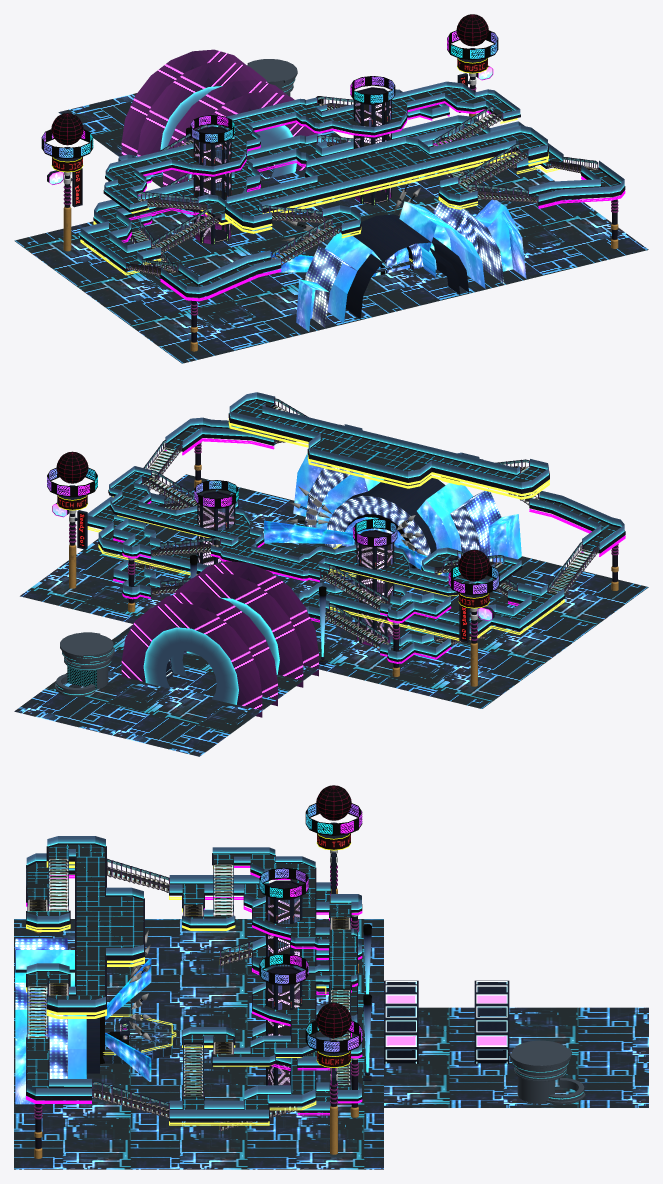
The model's file is Ins_Music_Bld_001 (2).fbx.
The picture shows the model from 3 angles, top to bottom: view 1: azimuth 30°, elevation 25°; view 2: azimuth 150°, elevation 25°; view 3: azimuth 270°, elevation 25°; orthographic projection. The views are drawn at different scales.
Parts seen in each view (by area): view 1: m_Ins_Bld_M_Floor_001, m_Ins_Bld_M_Wall_002, m_Ins_Bld_M_Floor_002, m_Ins_Bld_M_Stage_001, m_Ins_Bld_M_Decor_001, m_Ins_Bld_M_Neon_001, m_Column_005 (×2), m_Rotation_002 (×2), m_Rotation_003 (×2), pCube105, m_Ins_Bld_M_Reception_001, m_Rotation_005 (+2 smaller); view 2: m_Ins_Bld_M_Floor_001, m_Ins_Bld_M_Wall_002, m_Ins_Bld_M_Decor_001, m_Ins_Bld_M_Floor_002, m_Ins_Bld_M_Stage_001, m_Ins_Bld_M_Neon_001, m_Ins_Bld_M_Reception_001, m_Column_005 (×2), m_Rotation_002 (×2), m_Rotation_003 (×2), pCube105, m_Rotation_004 (+1 smaller); view 3: m_Ins_Bld_M_Floor_001, m_Ins_Bld_M_Floor_002, m_Ins_Bld_M_Wall_002, m_Ins_Bld_M_Stage_001, m_Ins_Bld_M_Decor_001, m_Ins_Bld_M_Neon_001, m_Ins_Bld_M_Reception_001, m_Rotation_002 (×2), m_Rotation_003 (×2), m_Rotation_005, m_Rotation_004, m_Column_005 (+2 smaller).
Boxes of the visible parts, x1,y1,x2,y2 form: m_Ins_Bld_M_Floor_001: [14, 93, 648, 363]; m_Ins_Bld_M_Wall_002: [80, 81, 624, 293]; m_Ins_Bld_M_Floor_002: [80, 87, 625, 297]; m_Ins_Bld_M_Stage_001: [260, 199, 526, 331]; m_Ins_Bld_M_Decor_001: [121, 49, 317, 186]; m_Ins_Bld_M_Neon_001: [80, 101, 625, 301]; m_Column_005 (×2): [47, 48, 493, 251]; m_Rotation_002 (×2): [41, 30, 498, 159]; m_Rotation_003 (×2): [51, 14, 488, 145]; pCube105: [193, 126, 231, 244]; m_Ins_Bld_M_Reception_001: [247, 59, 297, 96]; m_Rotation_005: [350, 76, 395, 104]; m_Ins_Bld_M_Floor_001: [14, 474, 648, 756]; m_Ins_Bld_M_Wall_002: [87, 392, 624, 659]; m_Ins_Bld_M_Decor_001: [121, 561, 318, 717]; m_Ins_Bld_M_Floor_002: [87, 399, 625, 661]; m_Ins_Bld_M_Stage_001: [264, 453, 521, 582]; m_Ins_Bld_M_Neon_001: [87, 418, 625, 663]; m_Ins_Bld_M_Reception_001: [54, 632, 114, 696]; m_Column_005 (×2): [52, 485, 494, 686]; m_Rotation_002 (×2): [47, 467, 499, 595]; m_Rotation_003 (×2): [56, 451, 490, 581]; pCube105: [356, 530, 394, 646]; m_Rotation_004: [353, 518, 397, 546]; m_Ins_Bld_M_Floor_001: [14, 919, 648, 1169]; m_Ins_Bld_M_Floor_002: [26, 843, 362, 1121]; m_Ins_Bld_M_Wall_002: [26, 836, 361, 1118]; m_Ins_Bld_M_Stage_001: [15, 938, 176, 1104]; m_Ins_Bld_M_Decor_001: [384, 980, 509, 1063]; m_Ins_Bld_M_Neon_001: [26, 861, 362, 1125]; m_Ins_Bld_M_Reception_001: [509, 1040, 585, 1104]; m_Rotation_002 (×2): [305, 803, 362, 1053]; m_Rotation_003 (×2): [316, 785, 351, 1038]; m_Rotation_005: [259, 953, 308, 985]; m_Rotation_004: [259, 867, 308, 899]; m_Column_005: [316, 1040, 351, 1154].
Bounding box in the file's own units: 68.81 × 20.08 × 73.71.
